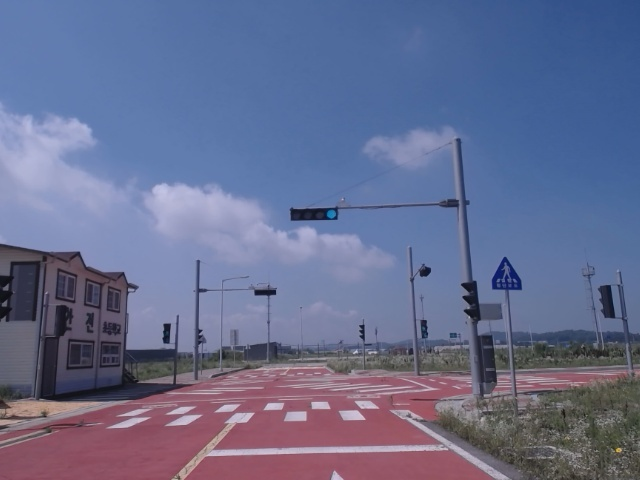straight_green_4: (289, 210, 339, 221)
